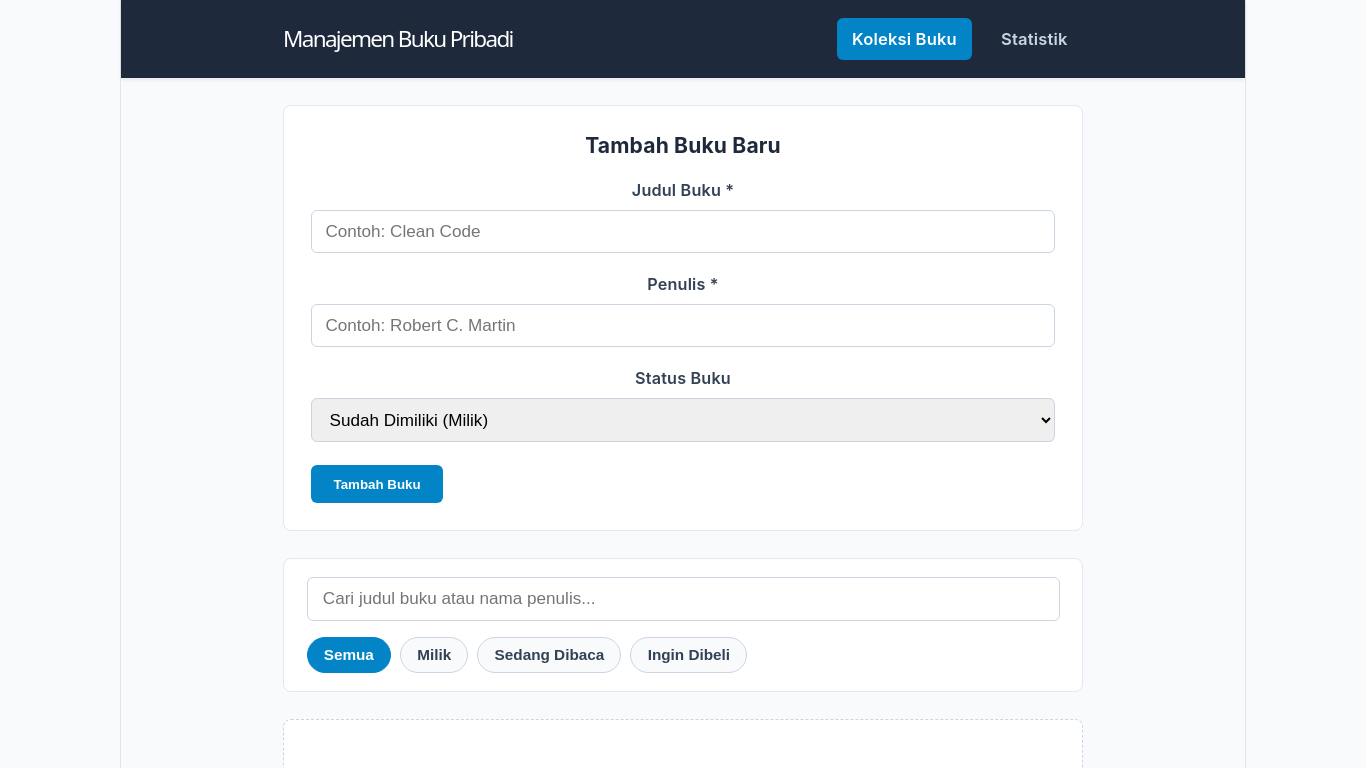
Test: Aplikasi Manajemen Buku Pribadi › 2. Menambahkan buku baru dan menampilkannya di daftar buku
Type "Clean Code" into the field labelled "Judul Buku *".
click(683, 232); type("Clean Code")  # box [311,210,1055,253]
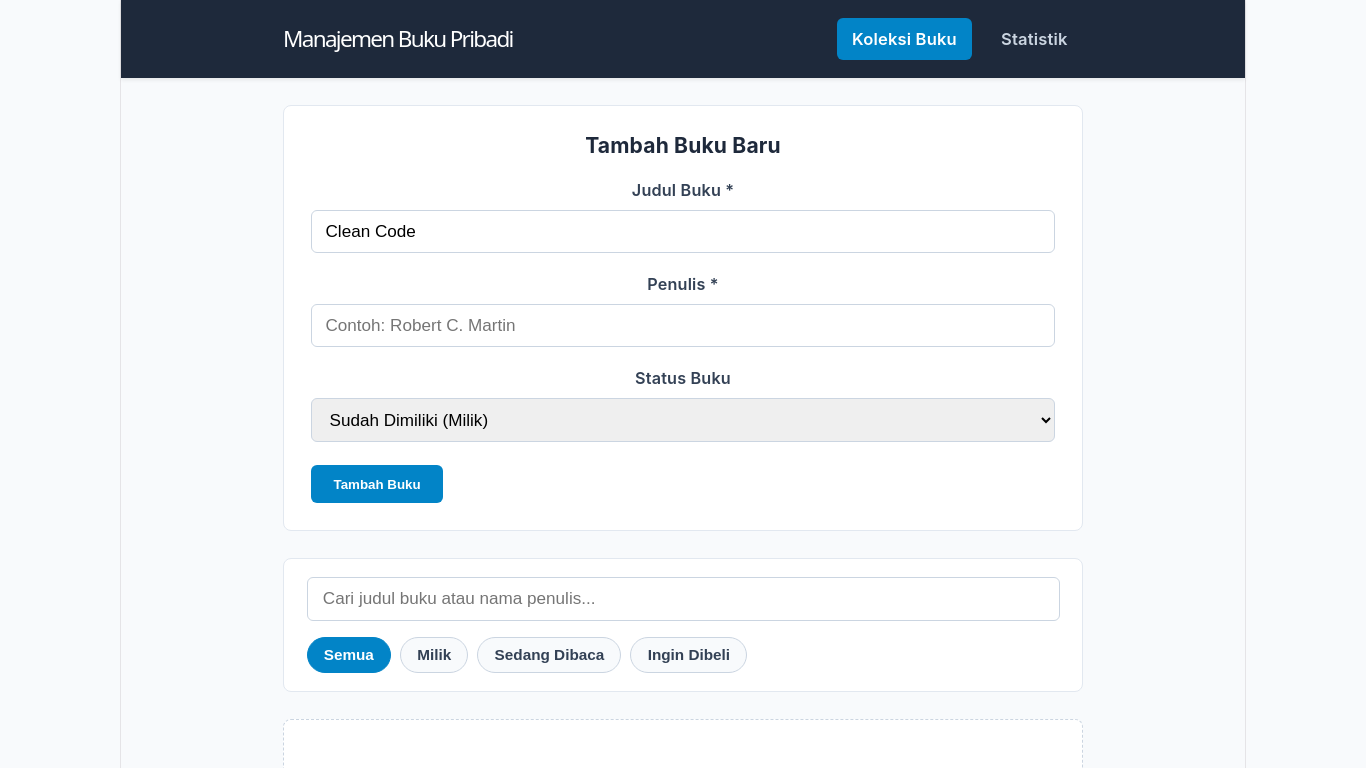
Type "Robert C. Martin" into the field labelled "Penulis *".
click(683, 326); type("Robert C. Martin")  # box [311,304,1055,347]
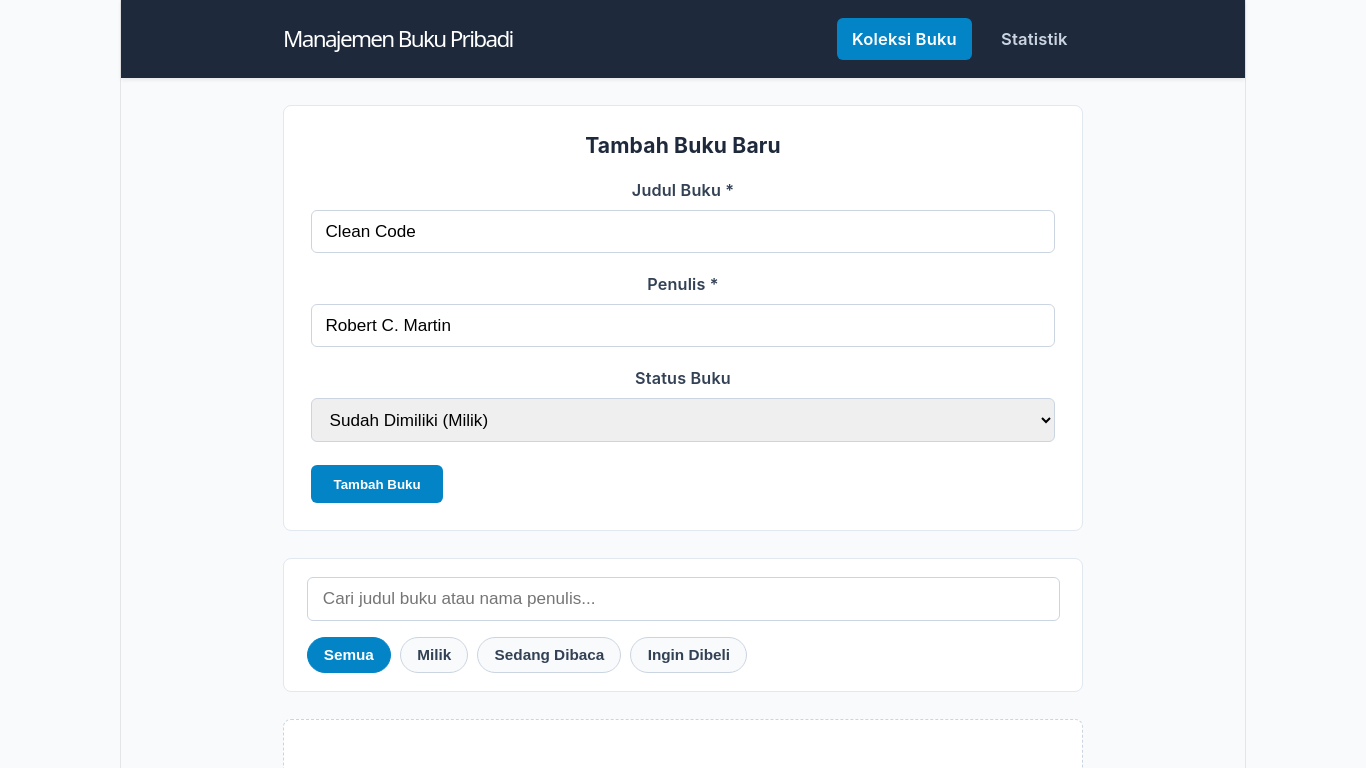
Select "Sudah Dimiliki (Milik)" in the dropdown labelled "Status Buku" at (683, 420), box [311,398,1055,442]
Click the button "Tambah Buku".
click(377, 484)  # box [311,465,443,503]
(page scrolled)
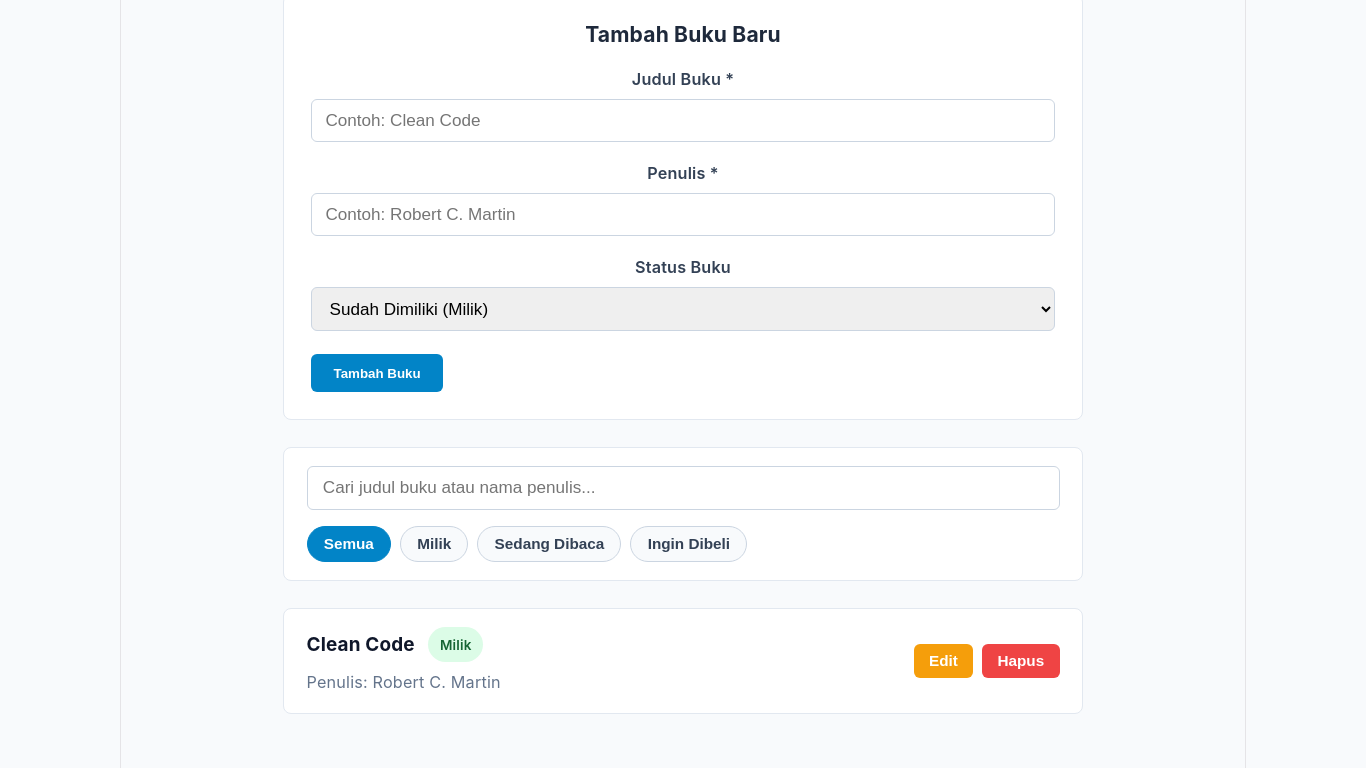
Result: the heading "Clean Code" is shown at [306,632,415,658]
Result: the text "Penulis: Robert C. Martin" is shown at [306,669,501,695]
